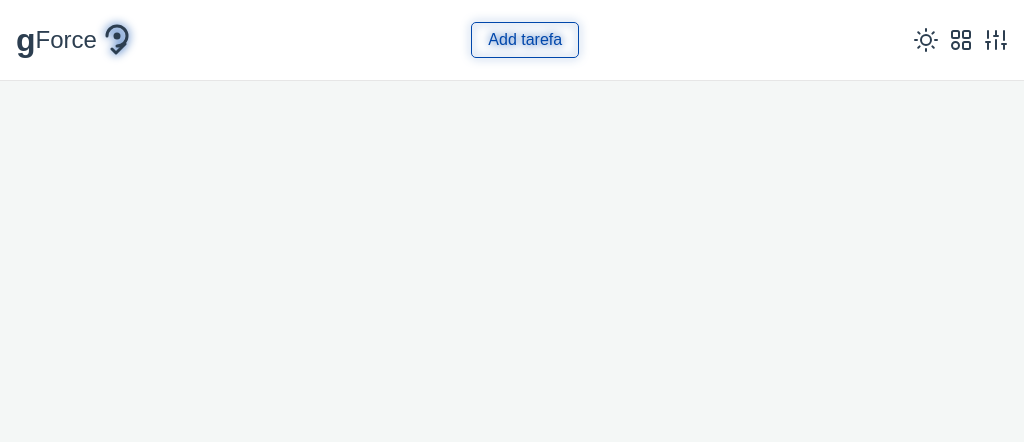
Integração da aplicação g-force-todo WebApp - Componente principal - App.jsx - Fluxo do usuário › Deve iniciar sem o Form e após interação do usuário, renderizar o mesmo
Click the button titled "botão exibir/ocultar formulário" at (525, 40), box [471, 22, 579, 58]
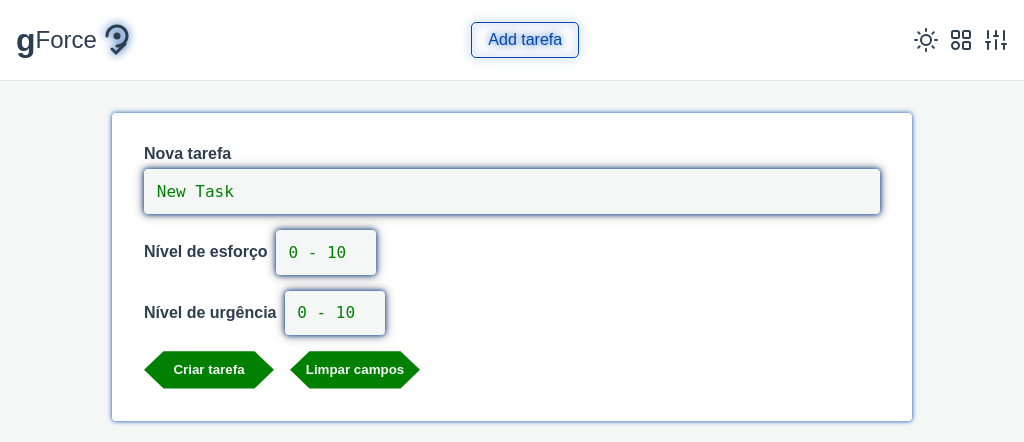
Expected: the form titled "formulário de novas tarefas" is shown, [112, 113, 912, 420]
